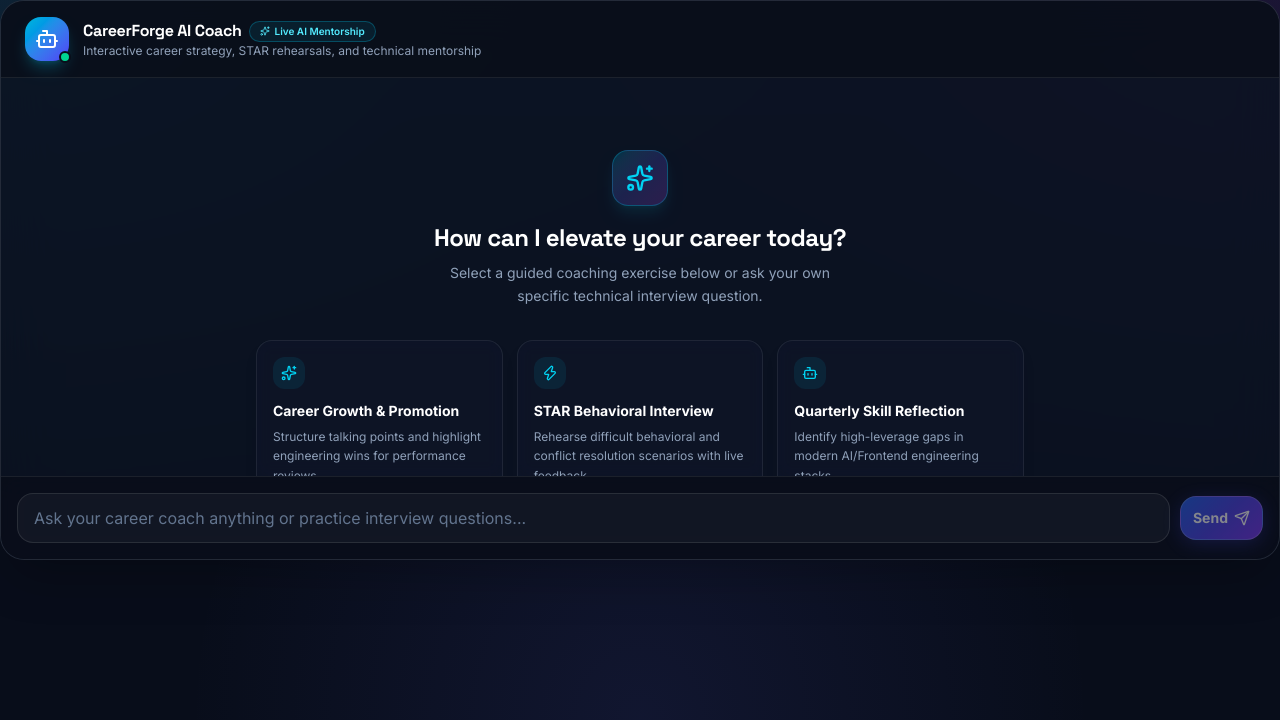
Test: ChatContainer Component (AI Coach Chat) › renders user message and pending thinking indicator when submitting a prompt
Replace the text in the field with placeholder "Ask your career coach anything" with "How do I prepare for a Staff Engineer review?": (593, 518) top-left (17, 493), bottom-right (1170, 543)
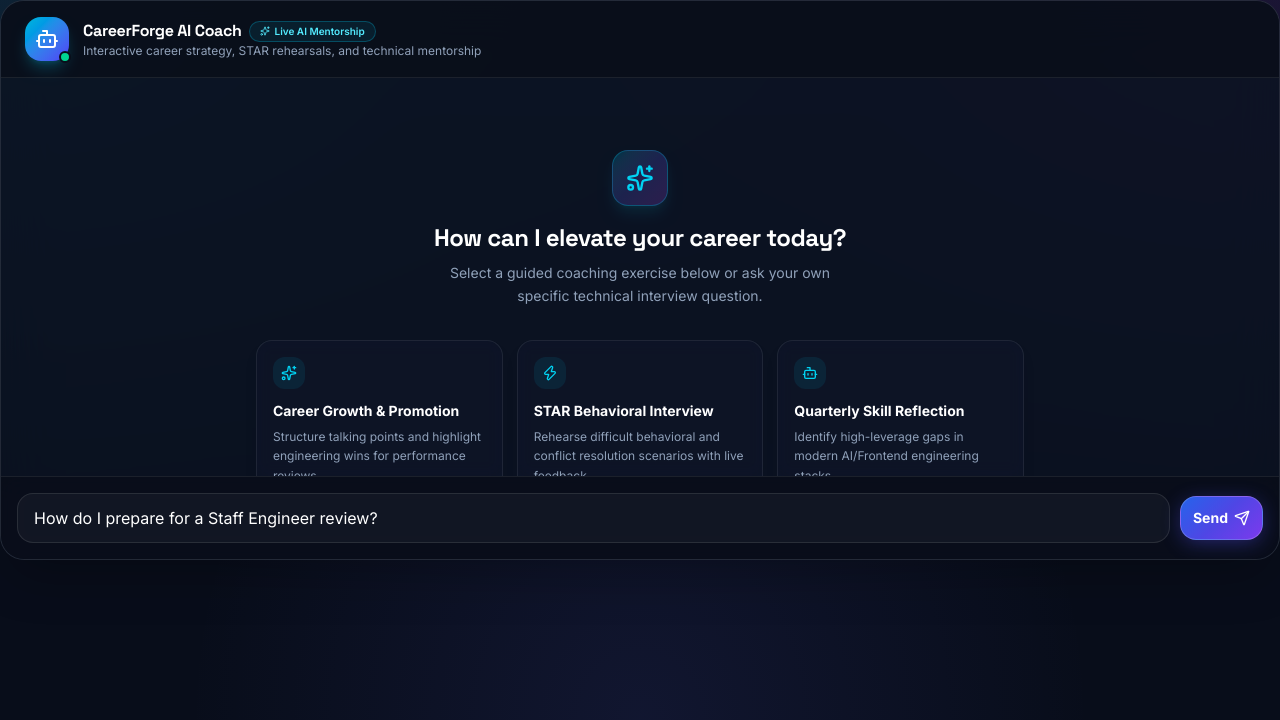
Click the button titled "Send message": (1221, 518) top-left (1180, 496), bottom-right (1263, 540)
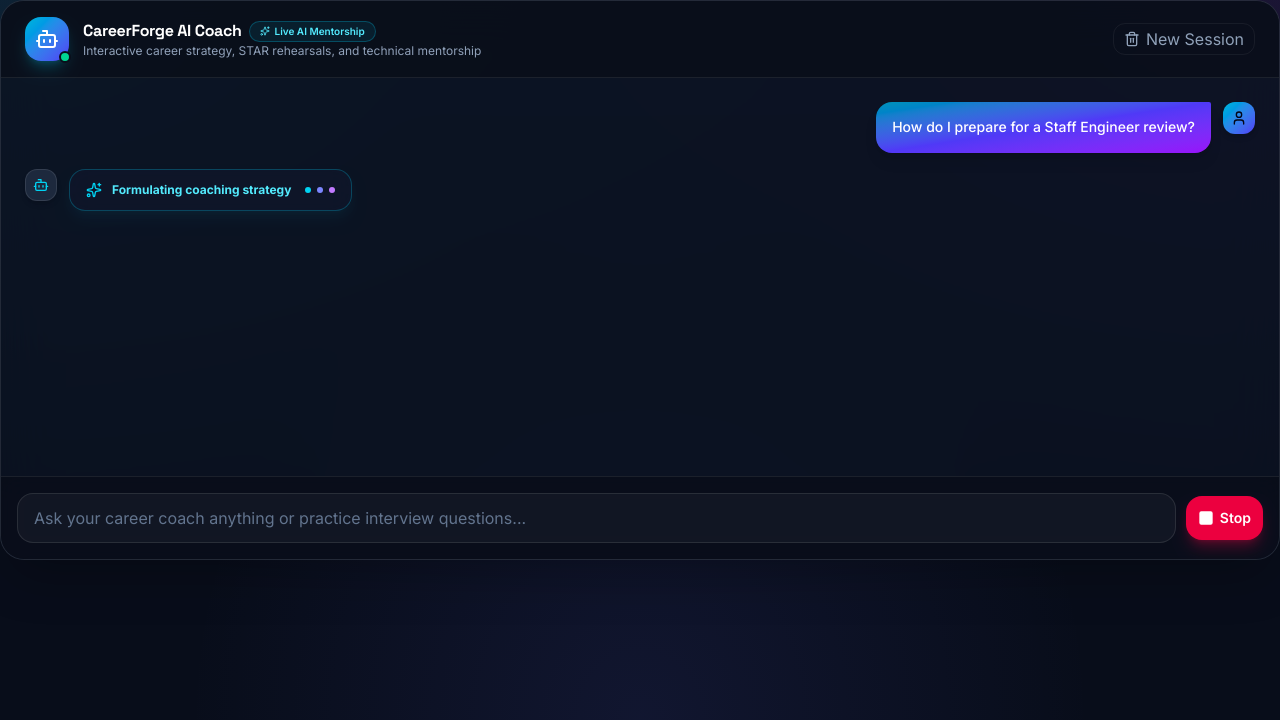
expect the text "How do I prepare for a Staff Engineer review?" is shown: met, box top-left (892, 116), bottom-right (1195, 139)
expect the text "Formulating coaching strategy" is shown: met, box top-left (112, 182), bottom-right (291, 198)
